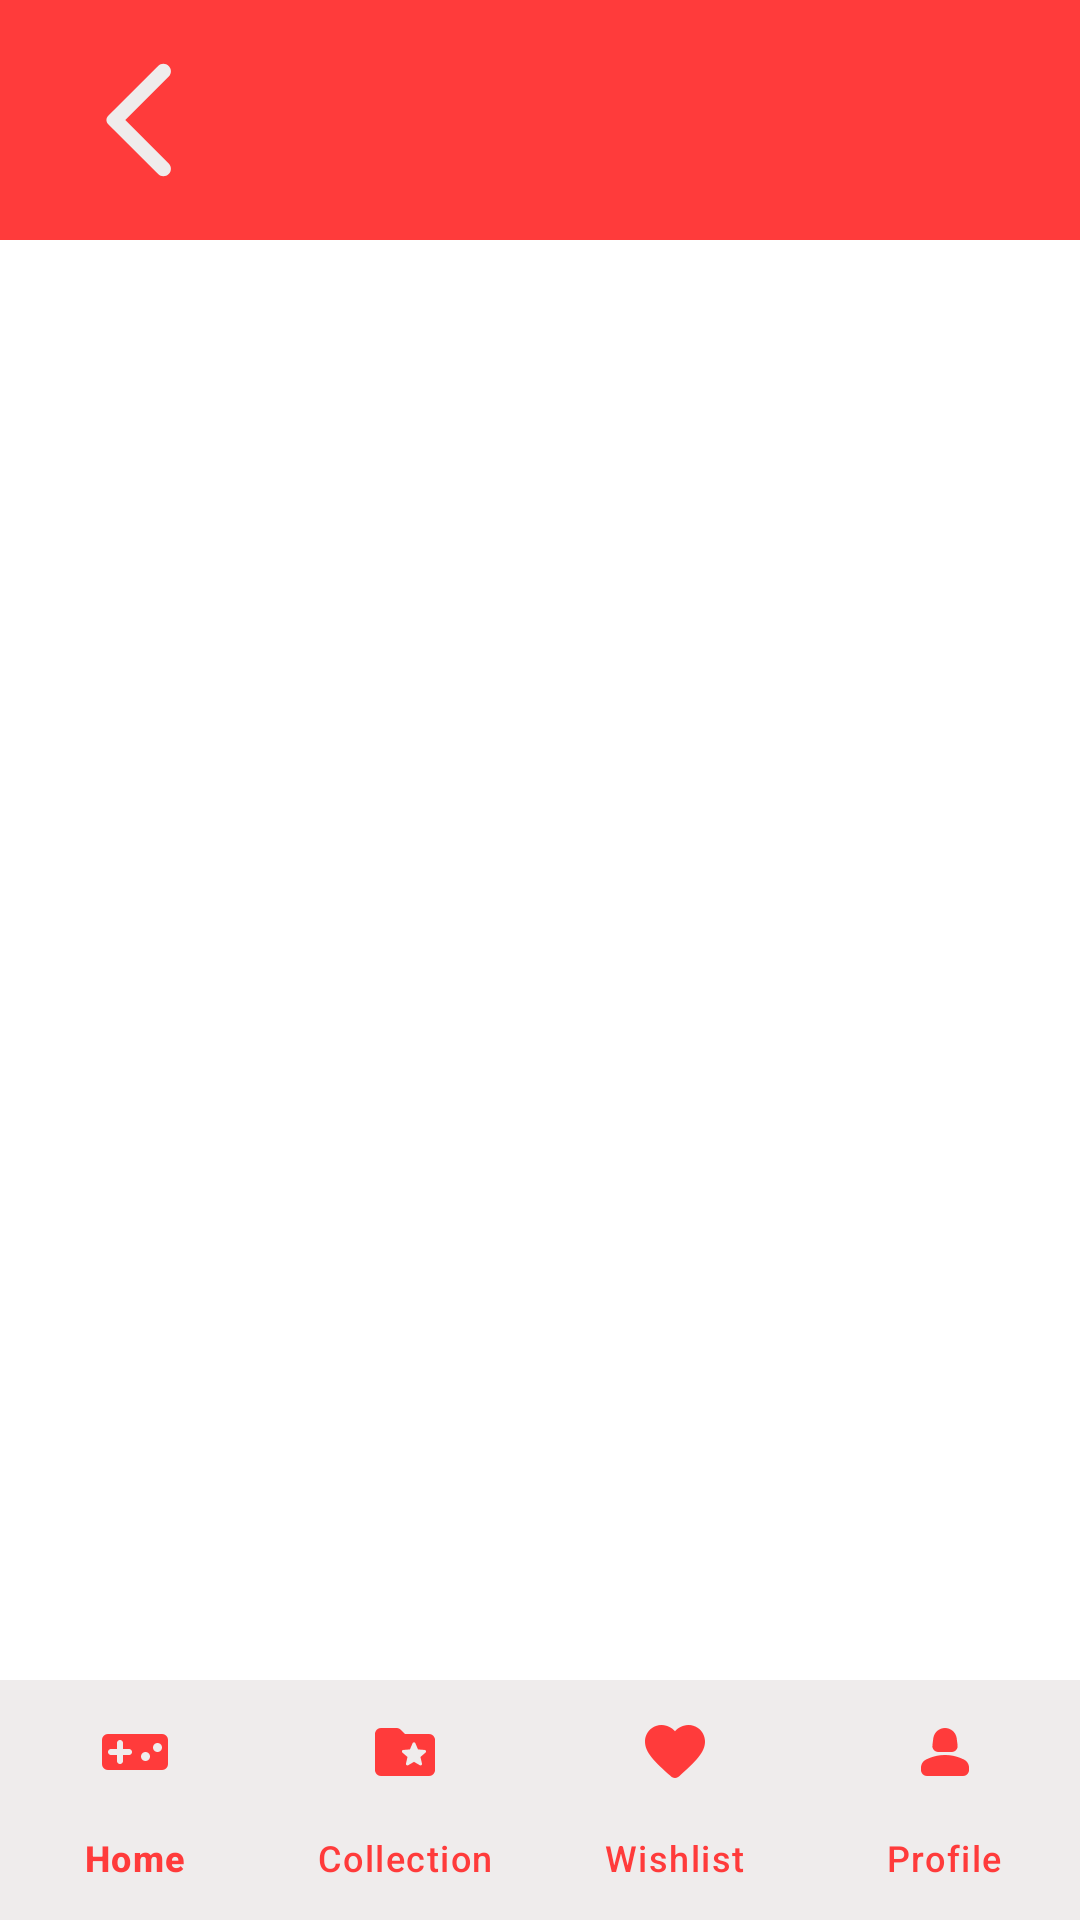

Icon click points for this 1080w x 1920h phone screenshot, format [x,y]:
arrow back: [138,120]
